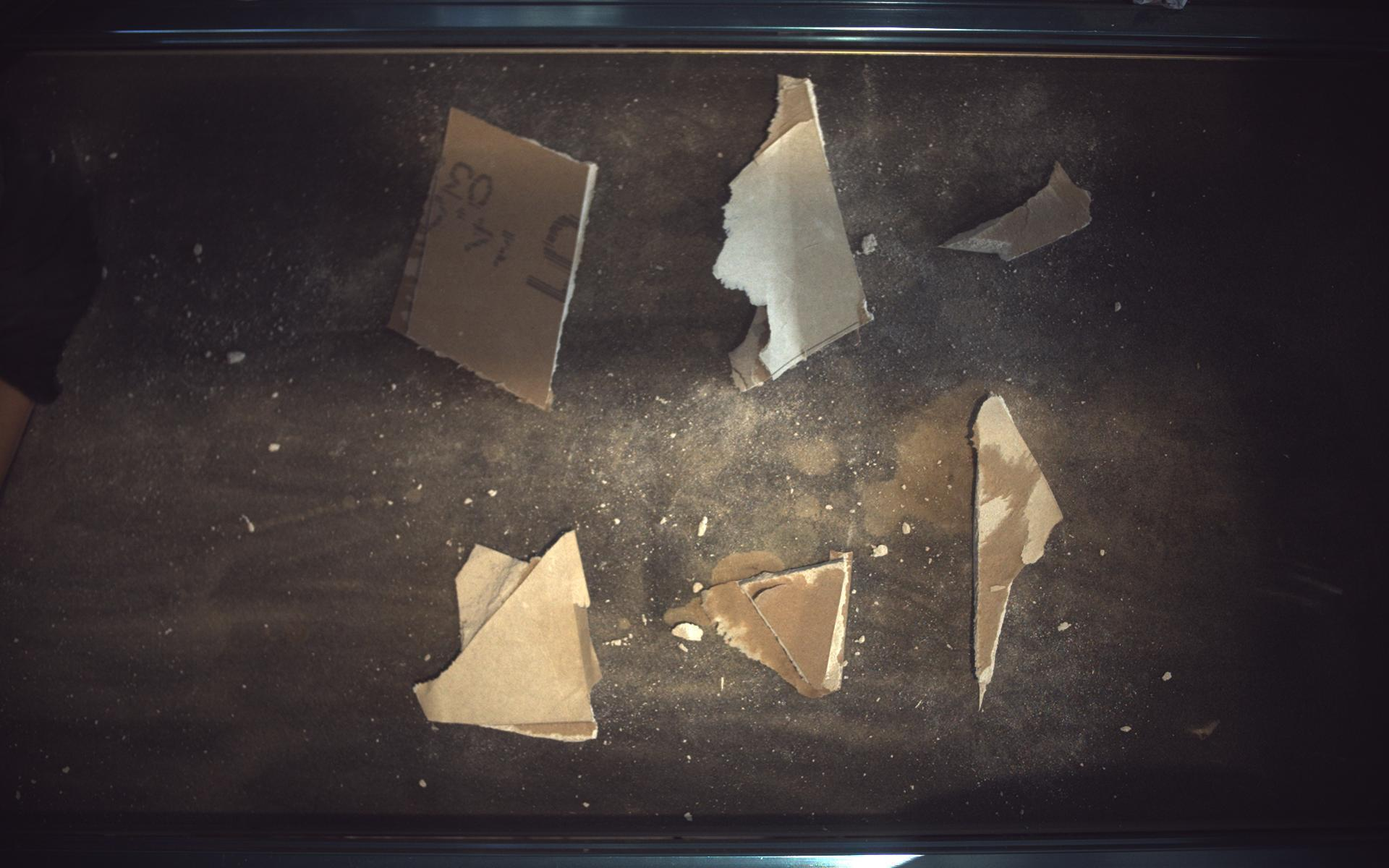gypsum_board: (388, 106, 598, 410), (715, 75, 875, 391), (415, 531, 602, 743), (974, 395, 1065, 710), (700, 553, 854, 699), (942, 162, 1093, 260)
